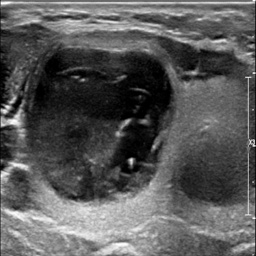mass: (23, 43, 177, 207)
